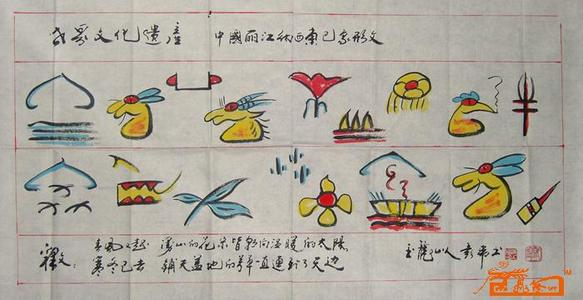chinese: (34, 236, 349, 276), (45, 25, 388, 49), (396, 239, 506, 266)
naxi: (22, 68, 545, 151), (17, 156, 558, 230)
